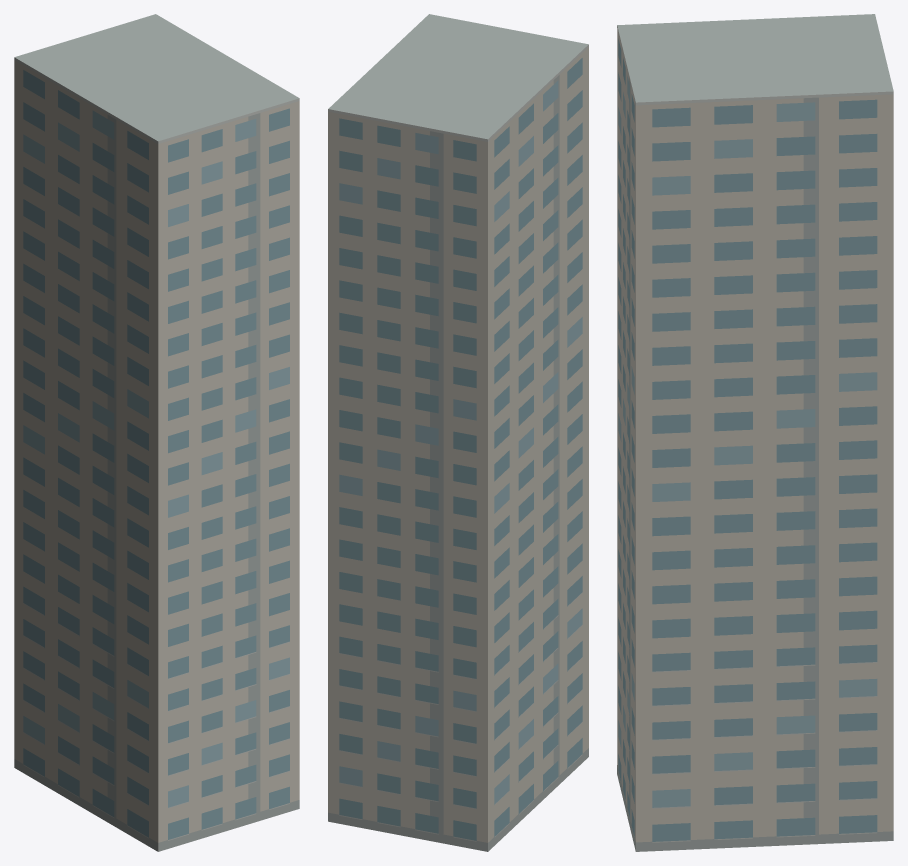
Rendered from residential-73e4bd3f-b2ac-429b-8c1c-302ee58c40a0.glb.
3 renders of one model, left to right at view 1: azimuth 30°, elevation 25°; view 2: azimuth 150°, elevation 25°; view 3: azimuth 270°, elevation 25°, orthographic. The views are drawn at different scales.
Parts seen in each view (by area): view 1: residential-73e4bd3f-b2ac-429b-8c1c-302ee58c40a0.tmp; view 2: residential-73e4bd3f-b2ac-429b-8c1c-302ee58c40a0.tmp; view 3: residential-73e4bd3f-b2ac-429b-8c1c-302ee58c40a0.tmp.
Part boxes in pixels (x1,y1,x2,y2): residential-73e4bd3f-b2ac-429b-8c1c-302ee58c40a0.tmp: (14, 14, 299, 851); residential-73e4bd3f-b2ac-429b-8c1c-302ee58c40a0.tmp: (328, 14, 588, 851); residential-73e4bd3f-b2ac-429b-8c1c-302ee58c40a0.tmp: (617, 14, 893, 851).
Size of the model in its own units: 16.23 by 64 by 21.42.
